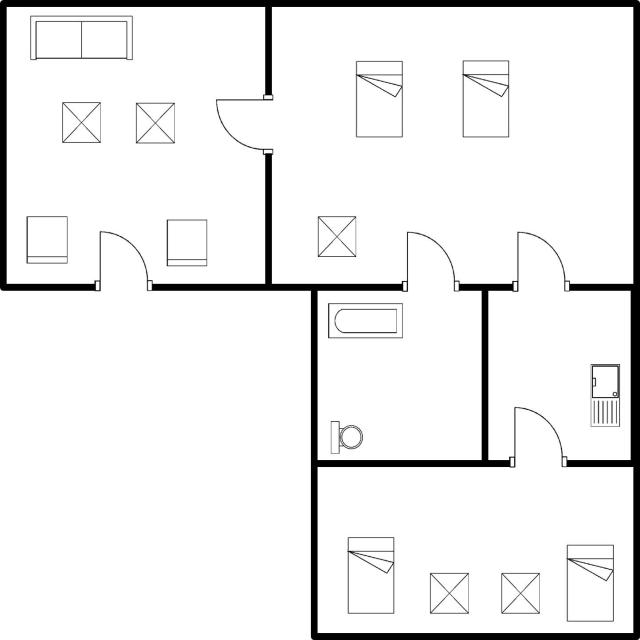bed: (457, 55, 515, 142), (351, 56, 408, 142), (342, 533, 399, 619), (562, 540, 618, 626)
coffee_table: (312, 211, 363, 262), (423, 567, 473, 618), (131, 98, 179, 147), (58, 99, 106, 147), (498, 568, 544, 618)
large_sink: (326, 416, 365, 458)
large_sofa: (26, 11, 138, 66)
sink: (586, 360, 624, 429)
small_sofa: (20, 212, 73, 269), (163, 215, 210, 271)
tub: (323, 298, 407, 343)
